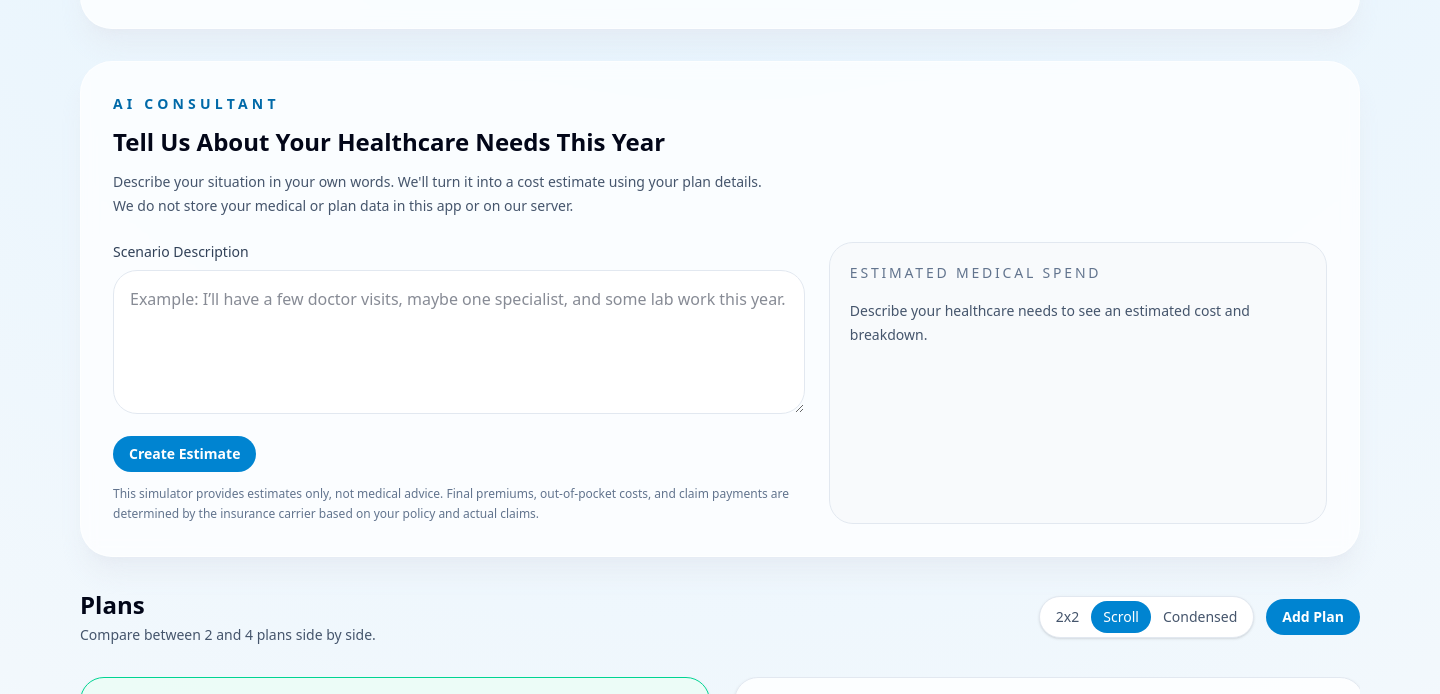
App integration › interprets a plain-English scenario and applies the structured spend through the calculator
(page scrolled)
Step 1. Type "We are planning for pregnancy care, delivery, and regular follow-up visits." into the text box labelled "Scenario Description" → x=459, y=342, box [113, 270, 805, 414]
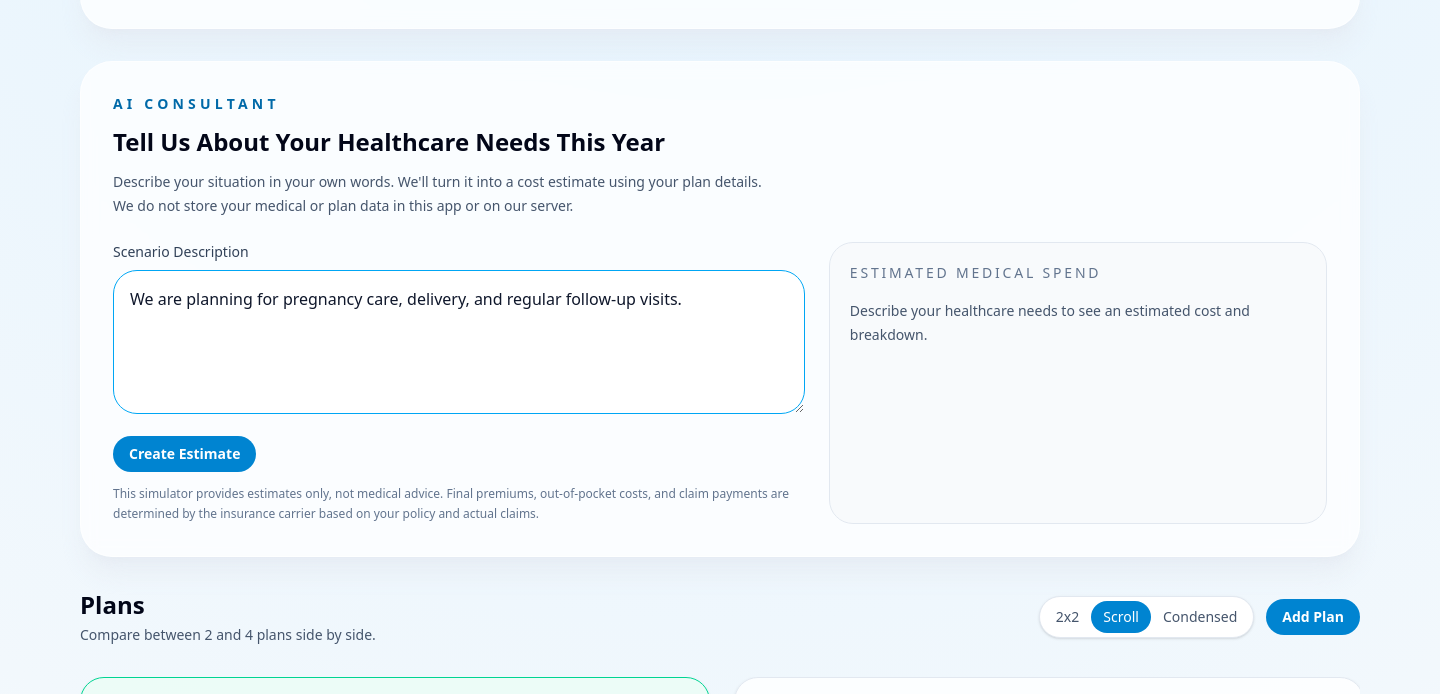
Step 2. Click the button "Create Estimate" → x=185, y=454, box [113, 436, 256, 472]
(page scrolled)
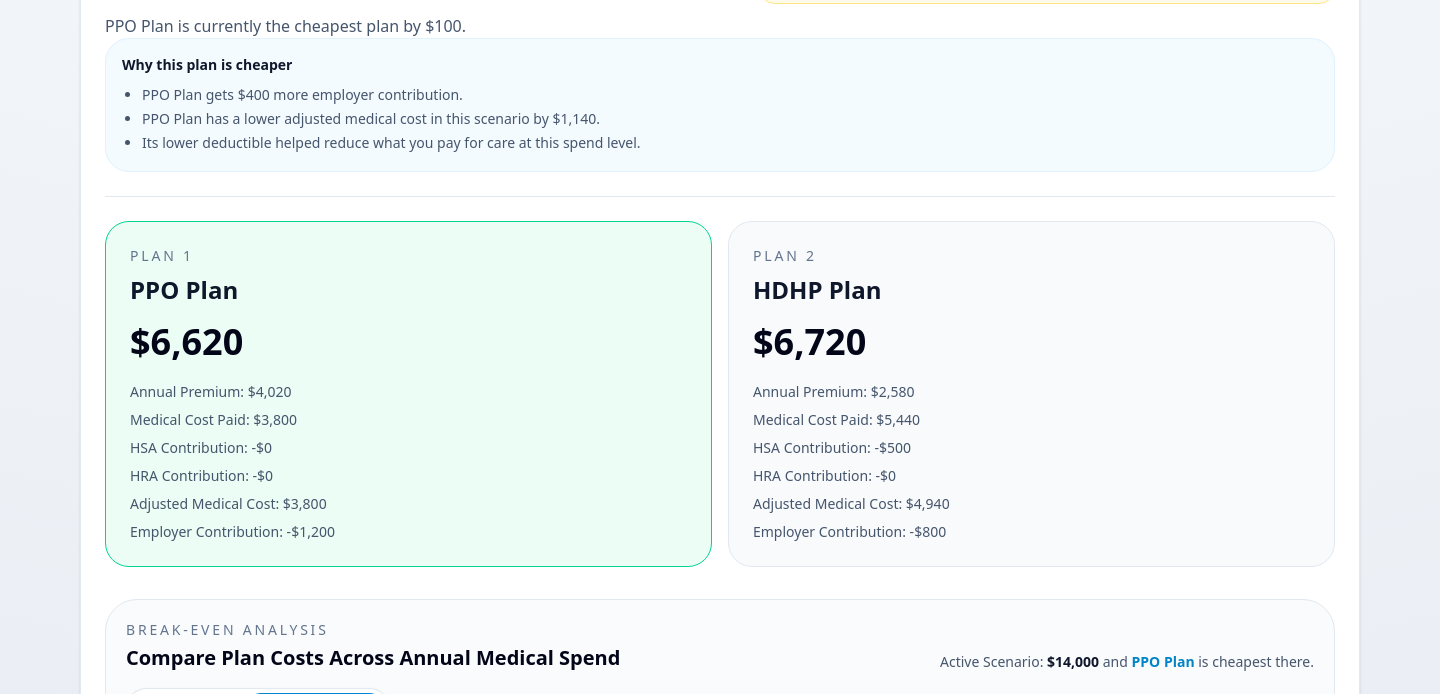
Result: the text "$6,620" is shown at [130, 317, 243, 366]
